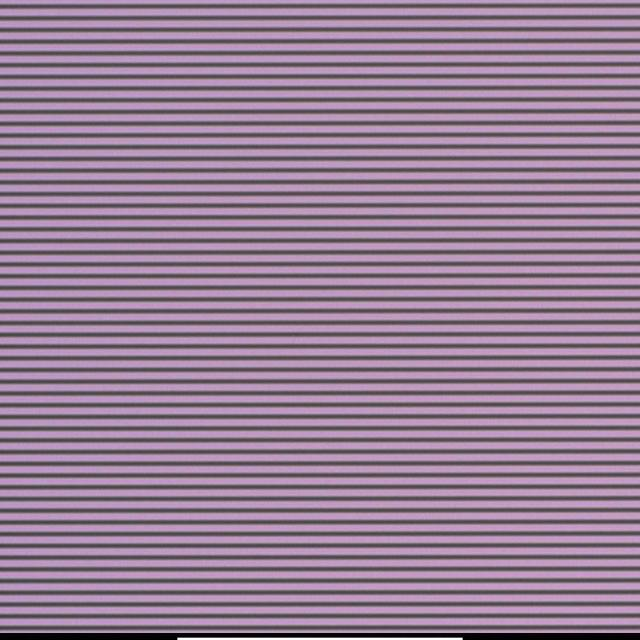03_intrusion: (288, 331, 296, 341)
